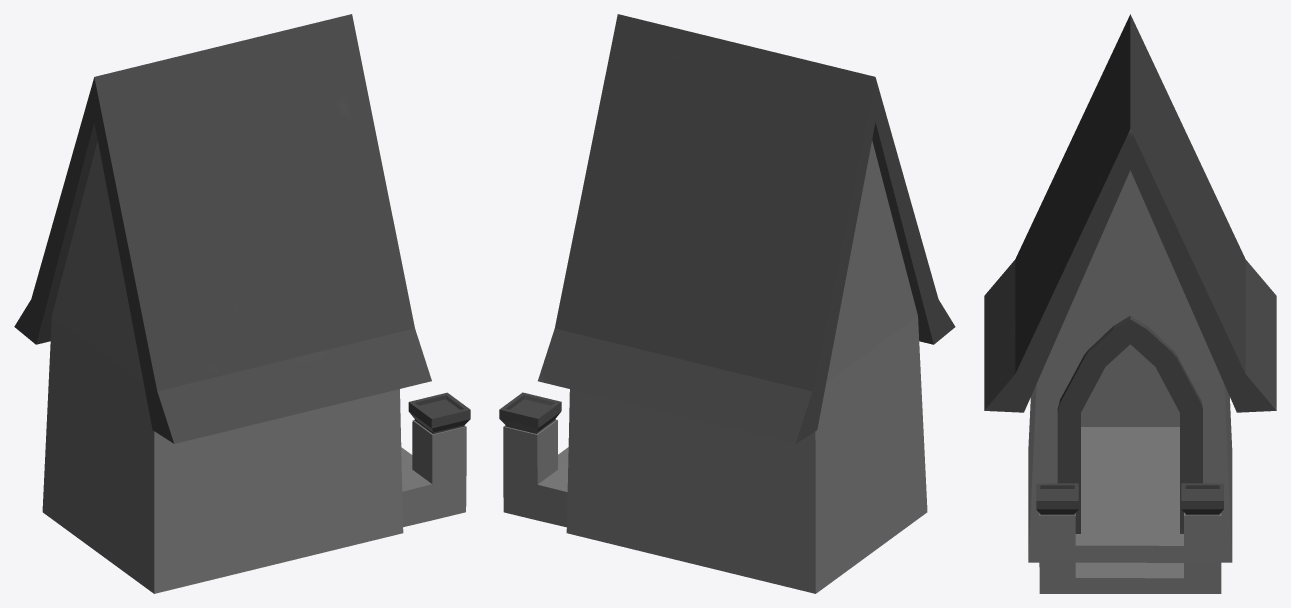
Rendered from chapel.fbx.
The picture shows the model from 3 angles, left to right: view 1: azimuth 30°, elevation 25°; view 2: azimuth 150°, elevation 25°; view 3: azimuth 270°, elevation 25°; orthographic projection. The views are drawn at different scales.
Visible parts, largest first — view 1: Cube; view 2: Cube; view 3: Cube.
Part boxes in pixels (left/top/right/bottom): Cube: left=14, top=14, right=470, bottom=593; Cube: left=499, top=14, right=955, bottom=593; Cube: left=984, top=14, right=1276, bottom=593.
Bounding box in the file's own units: 3771 × 5298 × 3219.
1 material, 1 textured.
